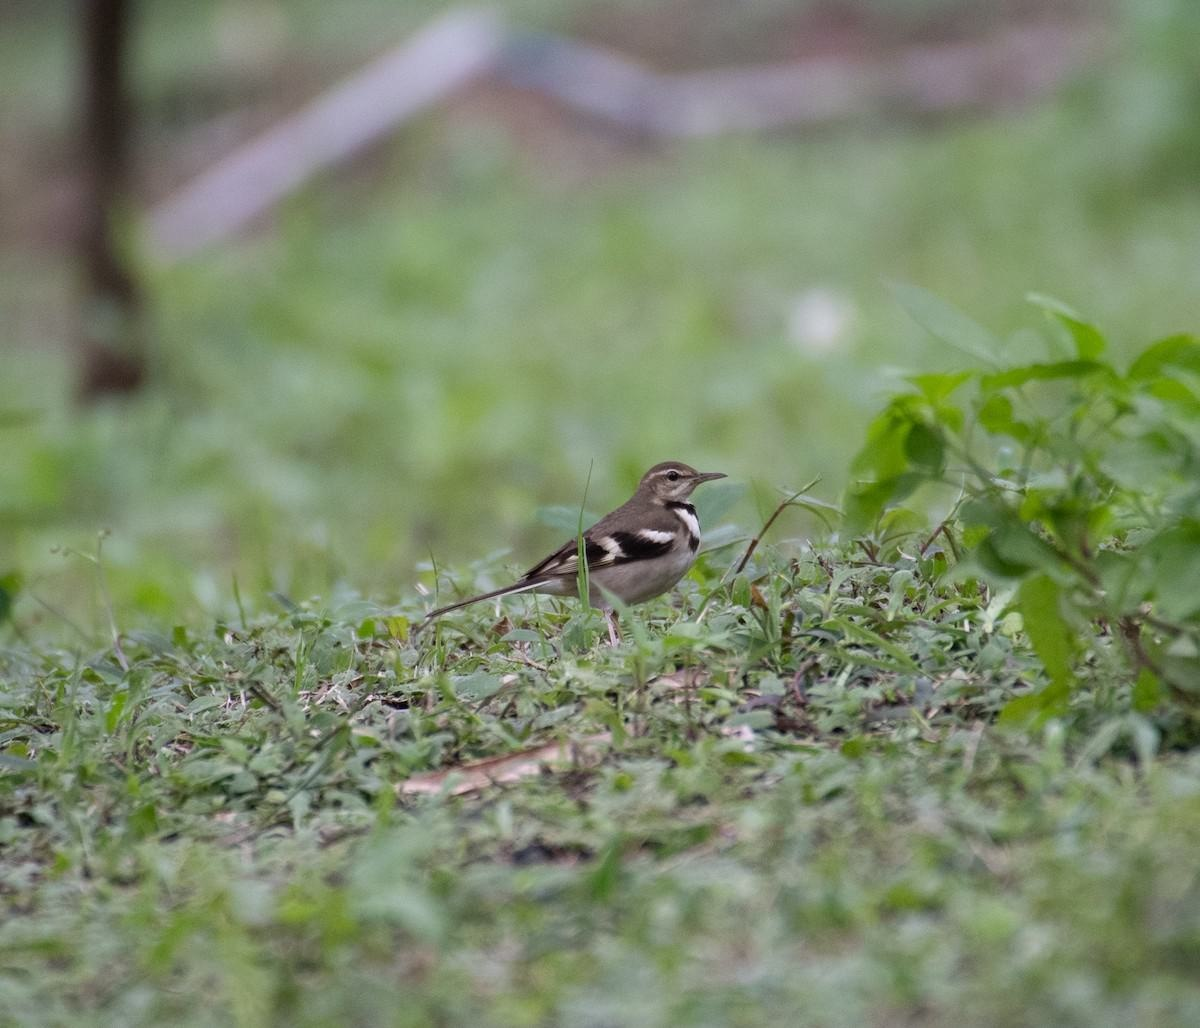wagtail: (426, 439, 773, 676)
